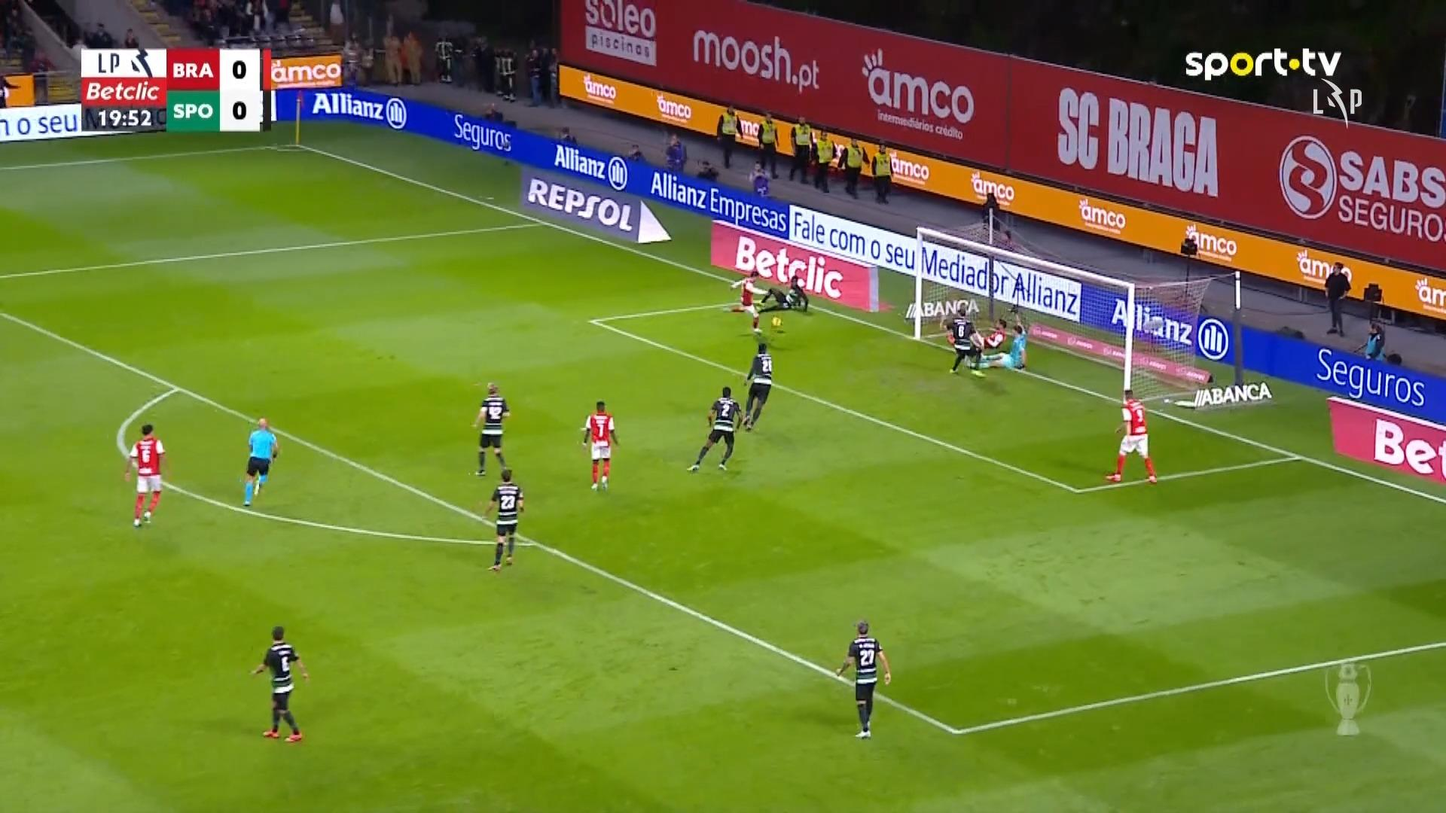ball: (770, 316, 781, 326)
goalkeeper: (973, 323, 1027, 370)
player: (249, 625, 309, 742), (834, 619, 891, 738), (1104, 387, 1158, 483), (686, 385, 743, 472), (122, 422, 167, 527), (483, 467, 525, 571), (471, 382, 511, 477), (580, 400, 619, 491), (740, 341, 773, 431), (941, 306, 984, 375), (729, 269, 766, 333), (759, 273, 809, 311), (975, 317, 1008, 358)
referee: (242, 417, 279, 507)
